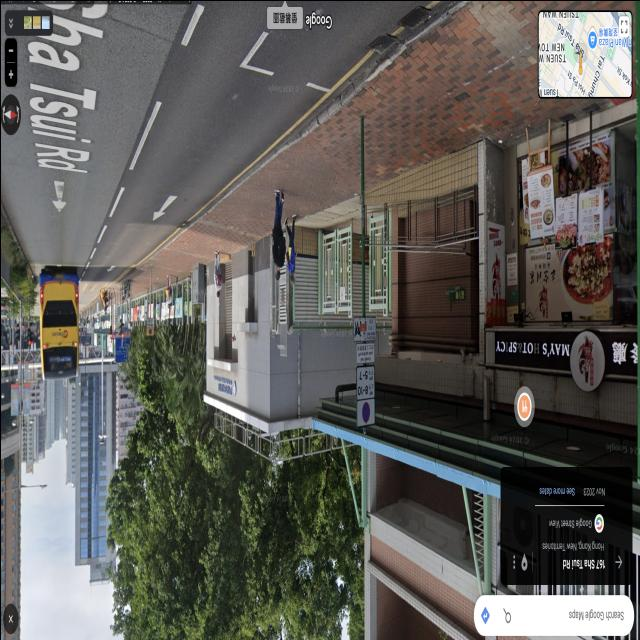Direction-Sign: (114, 337, 126, 361)
Order-Sign: (356, 366, 374, 426), (353, 315, 375, 341), (355, 343, 374, 362), (145, 317, 153, 334)
